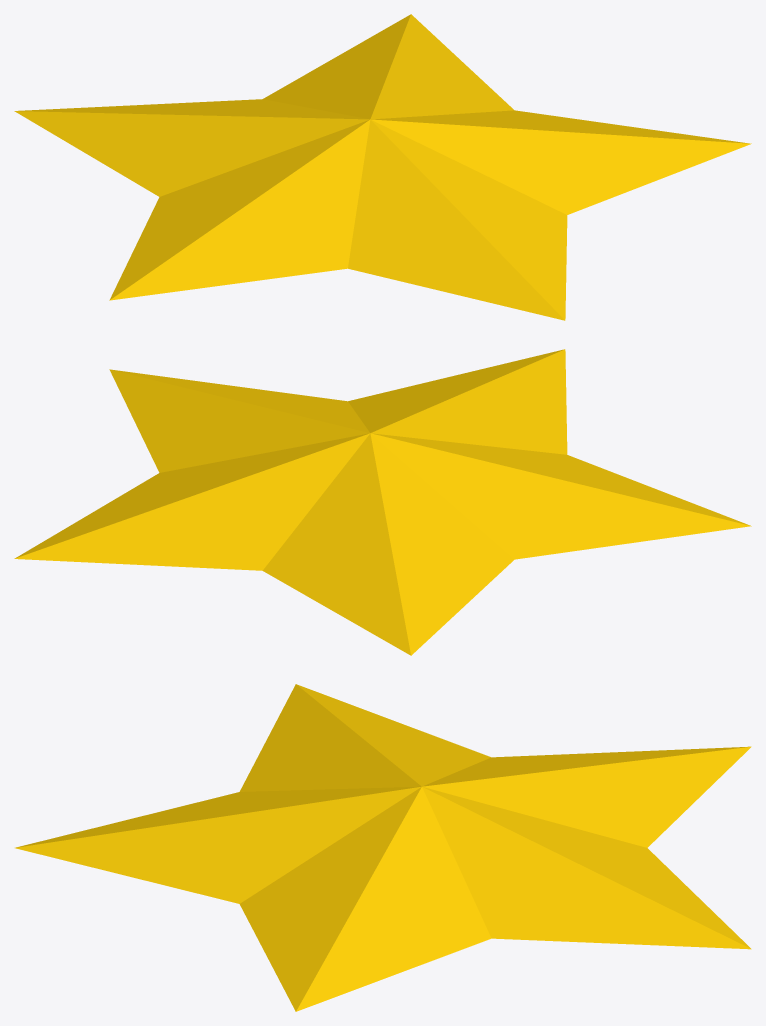
Rendered from Star.fbx.
The picture shows the model from 3 angles, top to bottom: view 1: azimuth 30°, elevation 25°; view 2: azimuth 150°, elevation 25°; view 3: azimuth 270°, elevation 25°; orthographic projection. The views are drawn at different scales.
Parts seen in each view (by area): view 1: Star; view 2: Star; view 3: Star.
Boxes of the visible parts, x1,y1,x2,y2 form: Star: [14, 14, 751, 320]; Star: [14, 349, 751, 655]; Star: [15, 684, 751, 1011].
Bounding box in the file's own units: 344 × 60 × 327.
